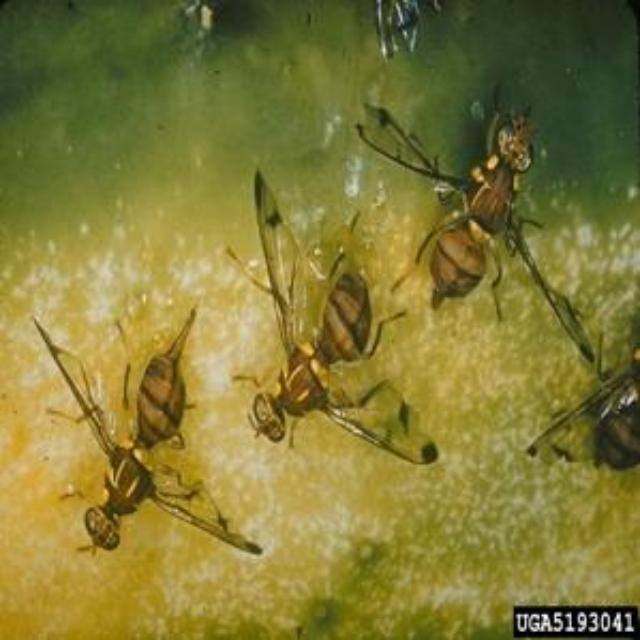melon fly: (0, 258, 228, 592), (211, 160, 411, 518), (348, 91, 578, 346)
